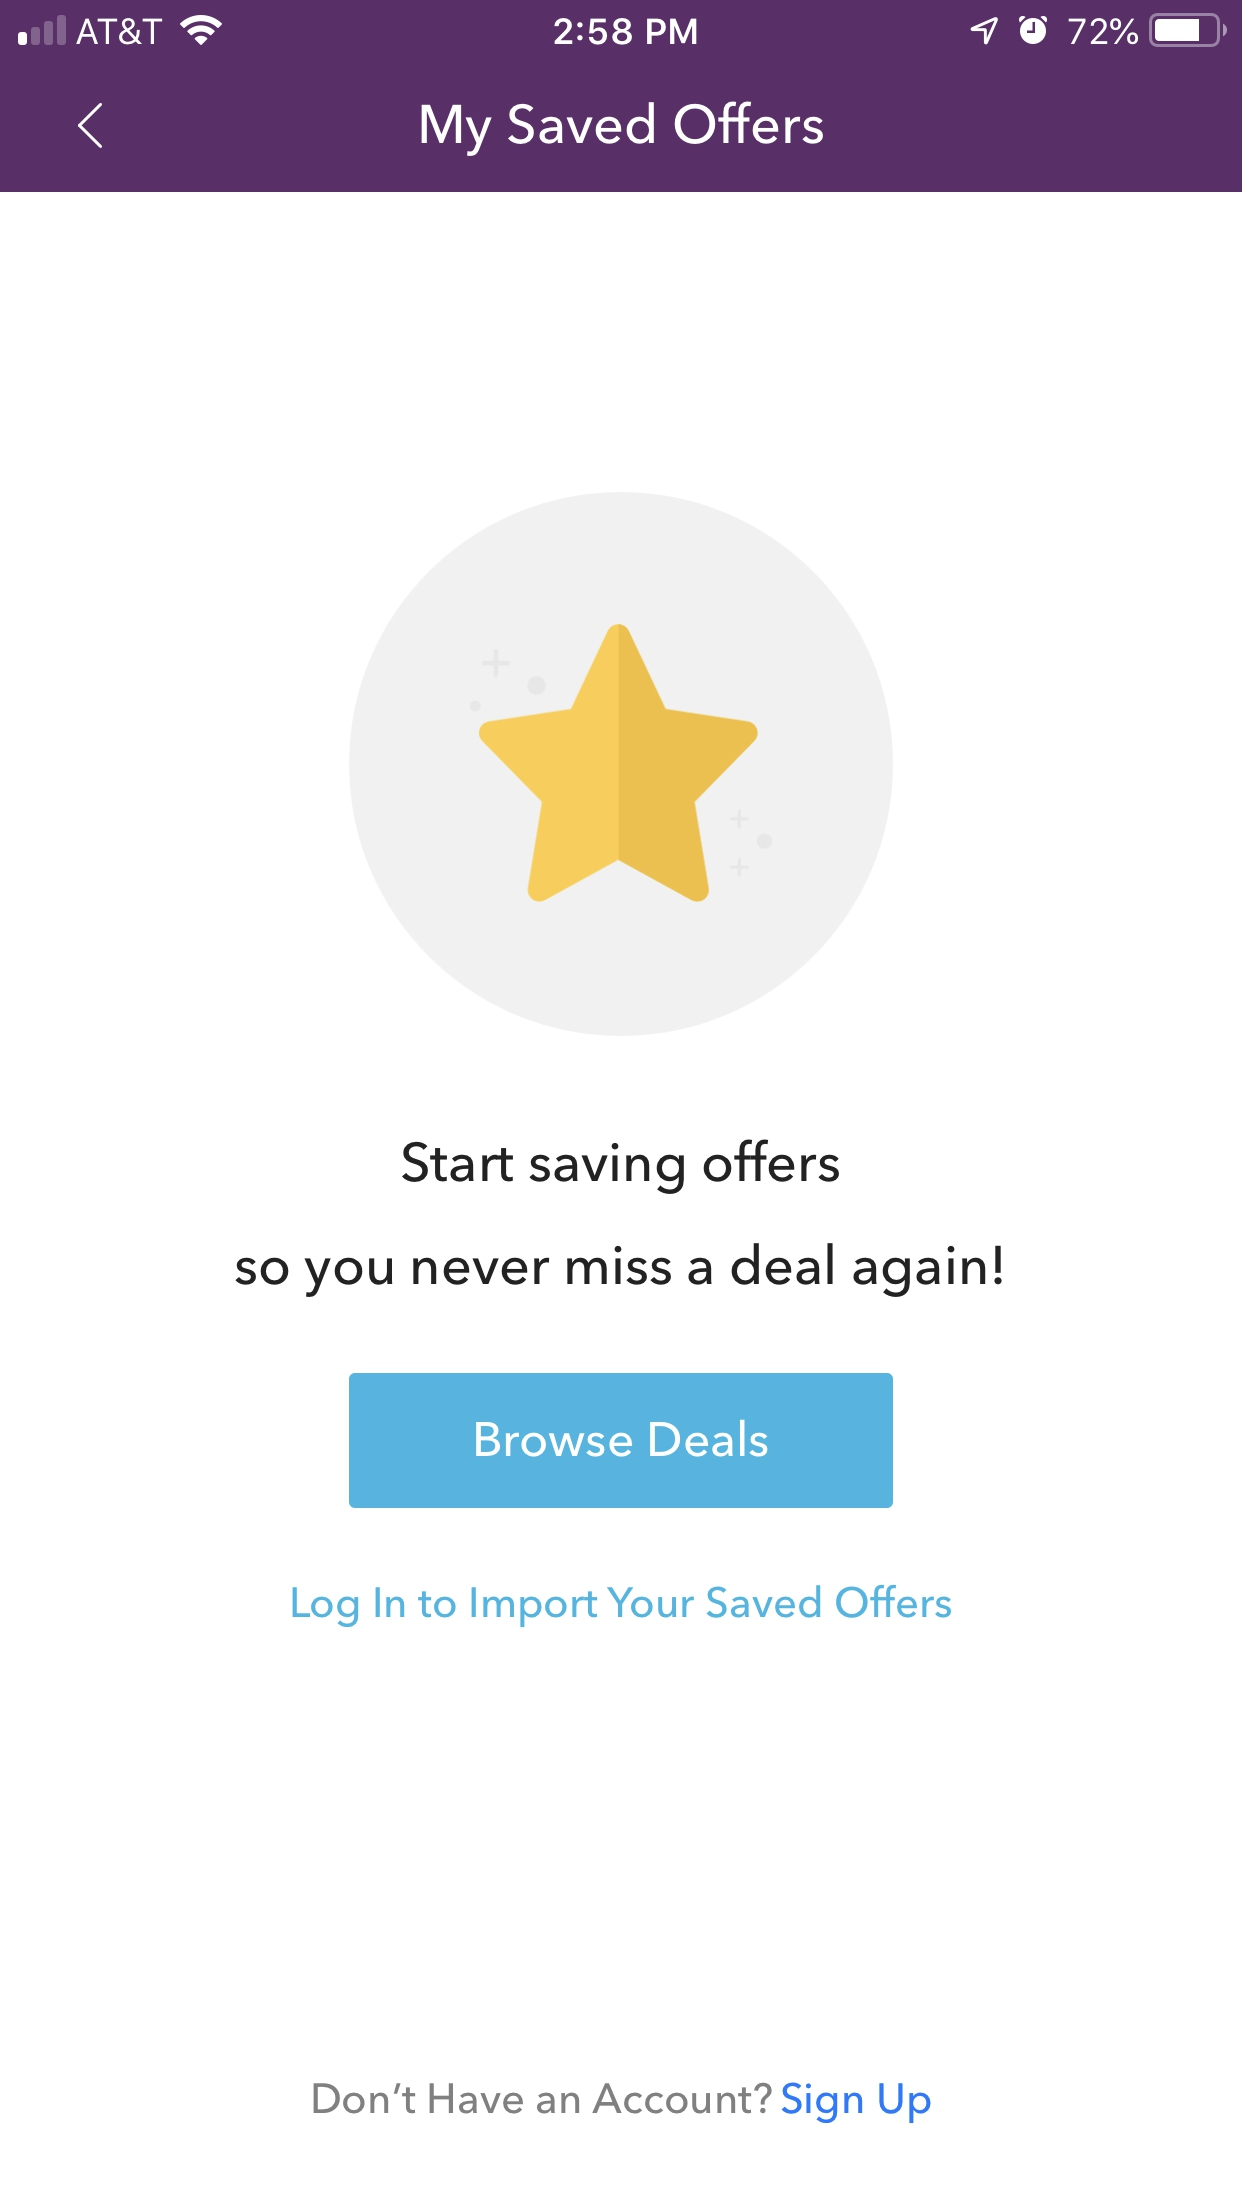Icon: (349, 493, 895, 1037), (77, 103, 105, 150)
Text: (235, 1137, 1002, 1298), (293, 1585, 952, 1629), (312, 2081, 933, 2125), (420, 102, 823, 158)
TextButton: (349, 1372, 895, 1509)
UpperTaskBar: (2, 2, 1242, 49)
